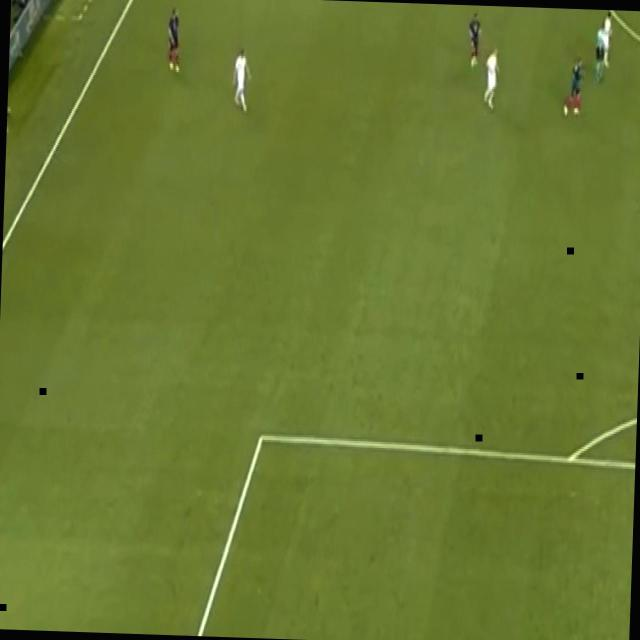player-white: (230, 40, 256, 122), (562, 50, 588, 122), (480, 42, 502, 114), (163, 4, 183, 80), (463, 9, 486, 75), (599, 10, 618, 71), (592, 21, 610, 85)
